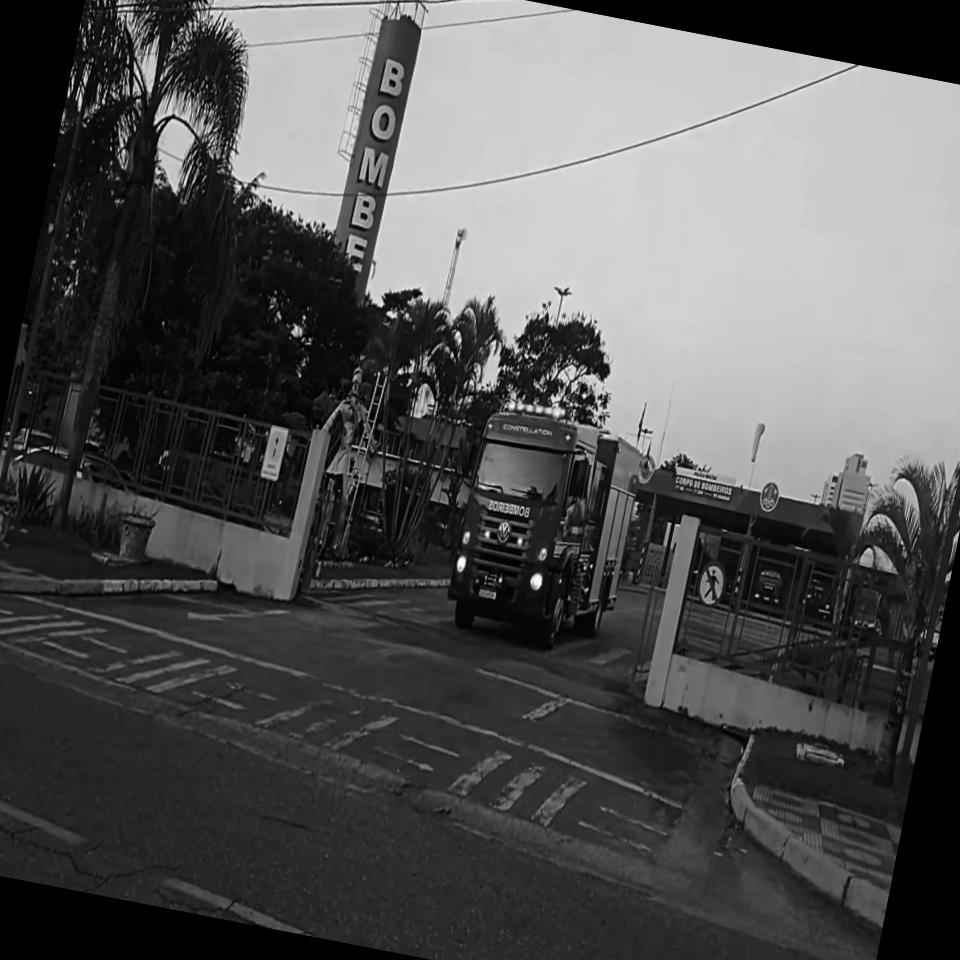viatura: (436, 391, 650, 656)
